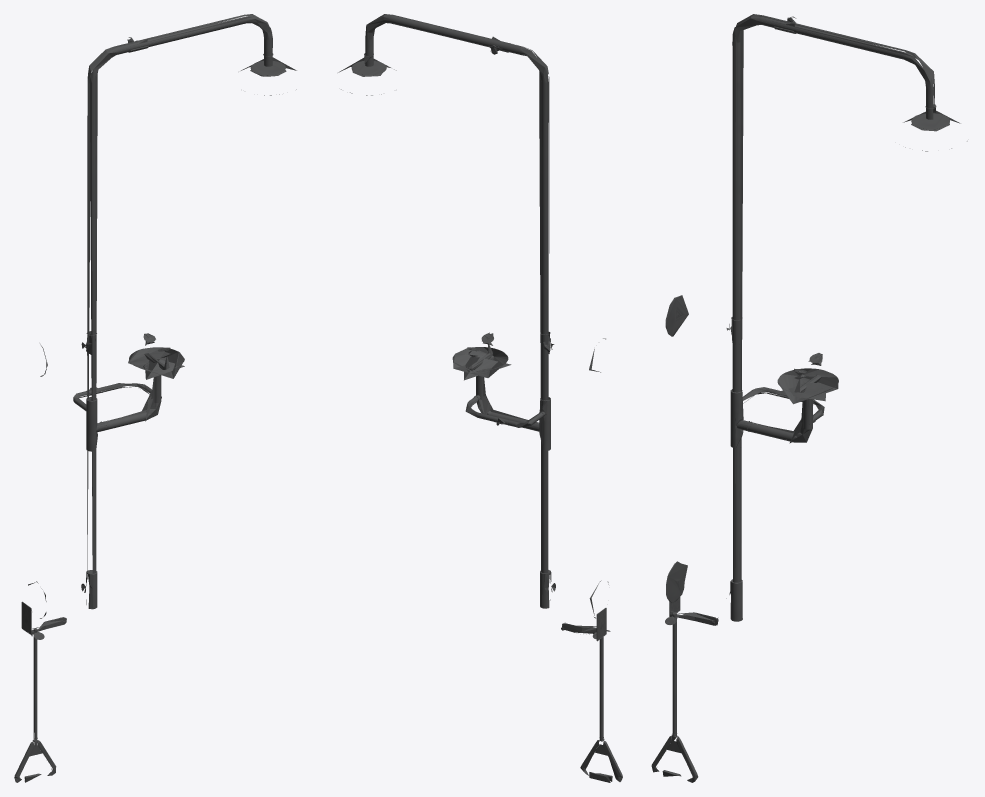
Rendered from safety_eyewashStation_combo_shower_a01.glb.
3 views of the same model, side by side, from view 1: azimuth 30°, elevation 25°; view 2: azimuth 150°, elevation 25°; view 3: azimuth 330°, elevation 25° (orthographic). The views are drawn at different scales.
Parts seen in each view (by area): view 1: geometry_0; view 2: geometry_0; view 3: geometry_0.
Boxes of the visible parts, x1,y1,x2,y2 form: geometry_0: (14,14,296,782); geometry_0: (338,14,622,782); geometry_0: (651,14,967,782).
Size of the model in its own units: 0.1752 by 0.42 by 0.0453.
Materials: 1 (1 with a texture image).
